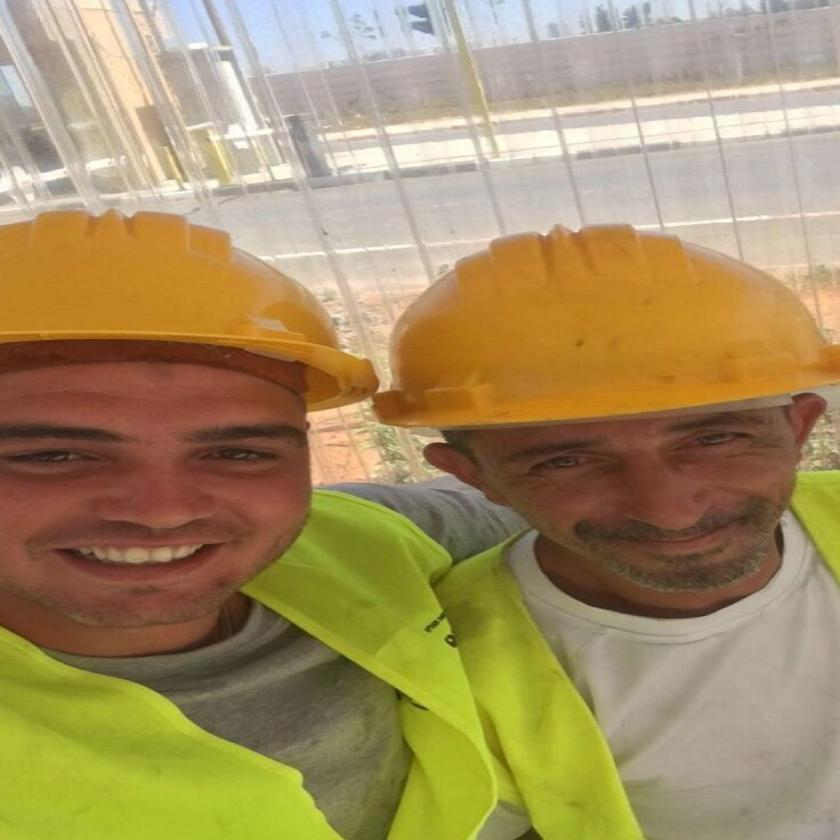Con_casco: (363, 221, 840, 603), (0, 207, 383, 651)
